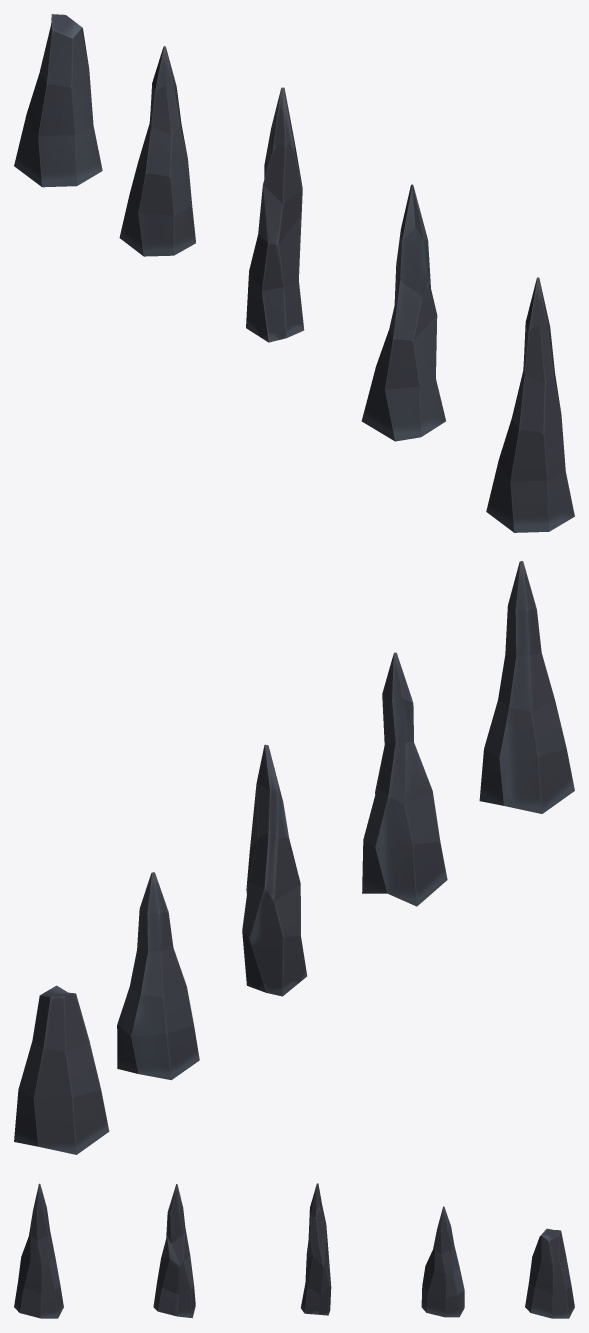
File: cave_rocks.glb
3 views of the same model, one above another, from view 1: azimuth 30°, elevation 25°; view 2: azimuth 150°, elevation 25°; view 3: azimuth 270°, elevation 25° (orthographic). The views are drawn at different scales.
Parts seen in each view (by area): view 1: Stal01, Stal02, Broken_Stal, Stal03, Stal04; view 2: Stal01, Stal02, Broken_Stal, Stal03, Stal04; view 3: Stal01, Stal02, Broken_Stal, Stal04, Stal03.
Boxes of the visible parts, bbox=[...] form: Stal01: bbox=[486, 277, 574, 532]; Stal02: bbox=[361, 184, 445, 441]; Broken_Stal: bbox=[14, 14, 102, 187]; Stal03: bbox=[246, 87, 304, 342]; Stal04: bbox=[119, 46, 195, 256]; Stal01: bbox=[479, 561, 574, 813]; Stal02: bbox=[362, 652, 447, 906]; Broken_Stal: bbox=[14, 985, 109, 1154]; Stal03: bbox=[242, 744, 307, 996]; Stal04: bbox=[117, 872, 199, 1080]; Stal01: bbox=[14, 1183, 63, 1318]; Stal02: bbox=[153, 1184, 195, 1318]; Broken_Stal: bbox=[525, 1228, 574, 1318]; Stal04: bbox=[421, 1206, 464, 1317]; Stal03: bbox=[301, 1183, 331, 1315].
Size of the model in its own units: 0.7925 by 2.56 by 9.96.
5 materials, 5 textured.
